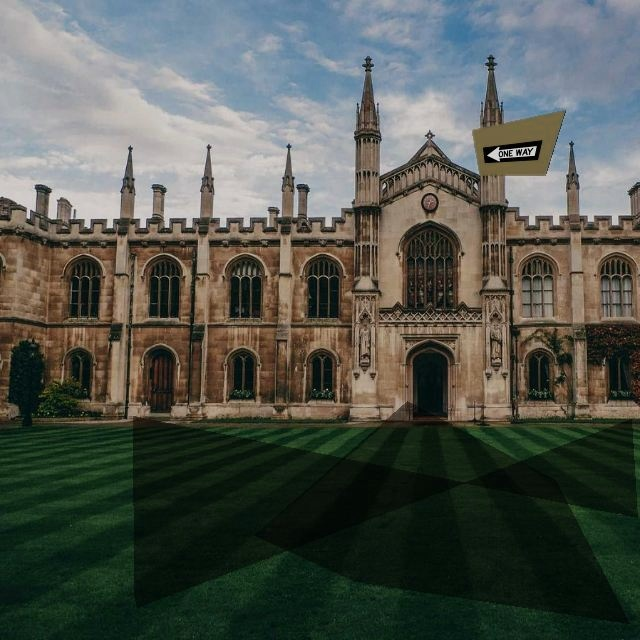ONE_WAY_ left: (483, 140, 542, 163)
